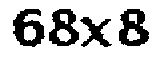6: (11, 5, 45, 49)
8: (115, 4, 152, 52), (47, 3, 80, 52)
x: (81, 14, 114, 53)
